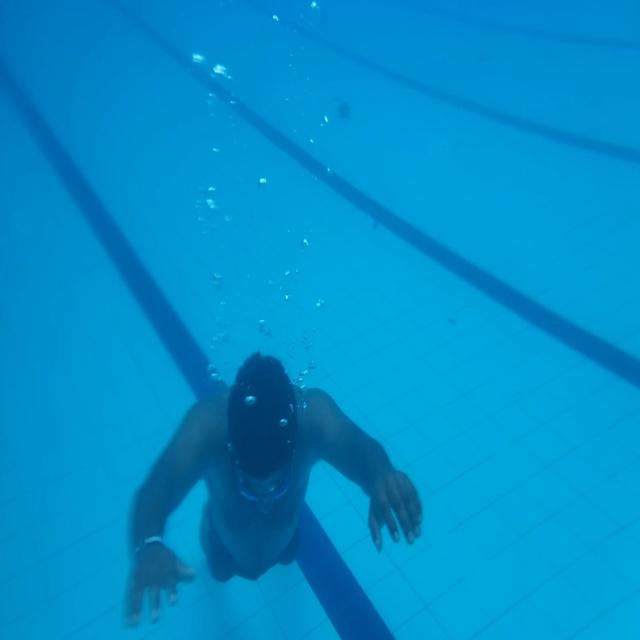Drowning: (122, 354, 424, 625)
